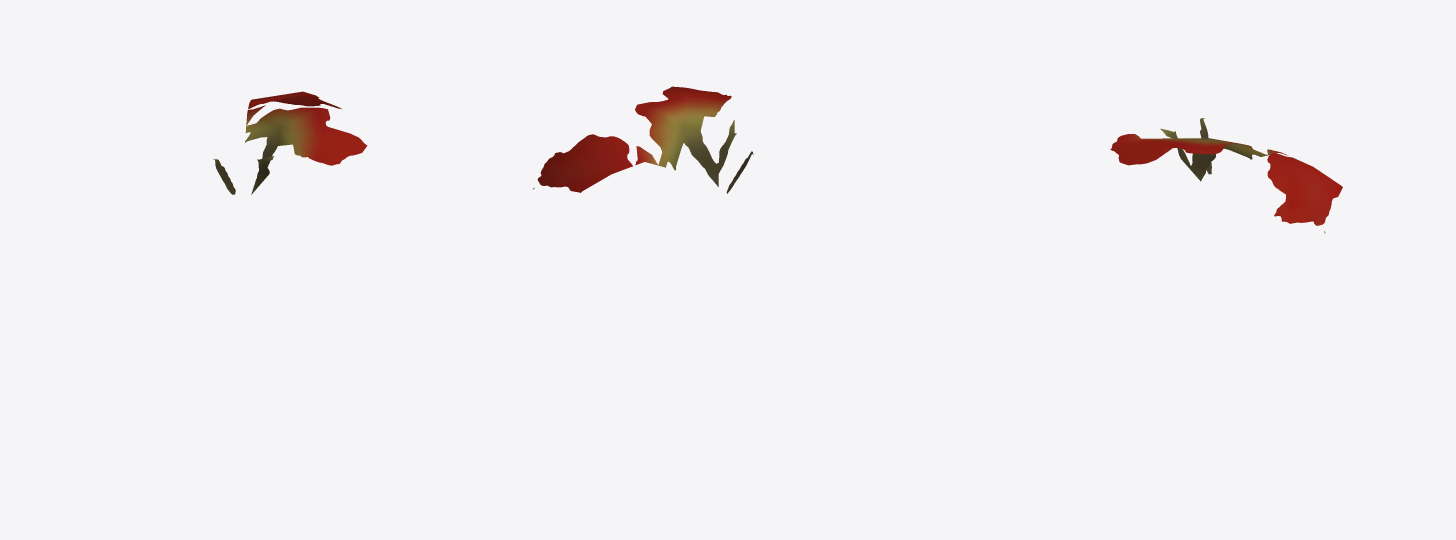
The model's file is fruit-apple.glb.
3 views of the same model, side by side, from view 1: azimuth 30°, elevation 25°; view 2: azimuth 150°, elevation 25°; view 3: azimuth 270°, elevation 25° (orthographic). The views are drawn at different scales.
Bounding box in the file's own units: 4.08 × 4.6 × 4.08.
1 material, 1 textured.
